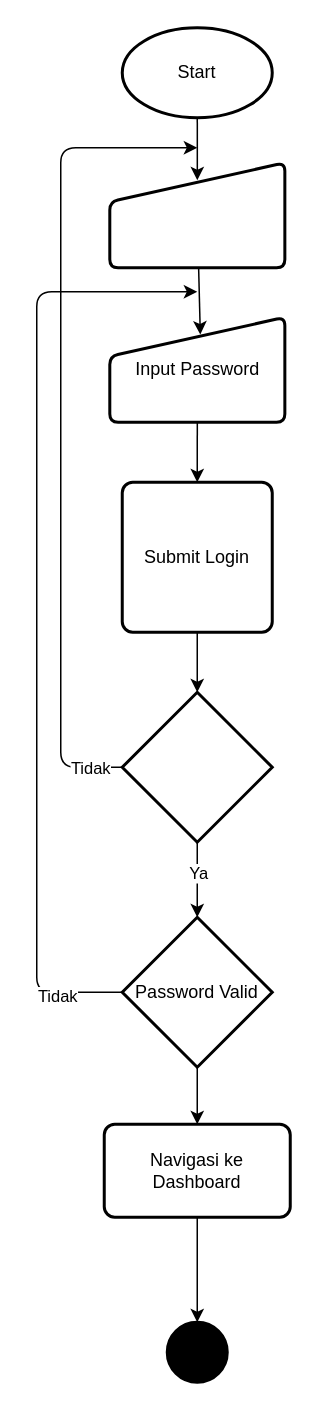
Some shapes in this 318 by 1409 pixel diagram are drawn without their labels. Here are the shapes that lost their labels. From the top down, the centre of each, then its label:
At point (197, 214): "Input Email".
At point (196, 766): "Email Valid".
